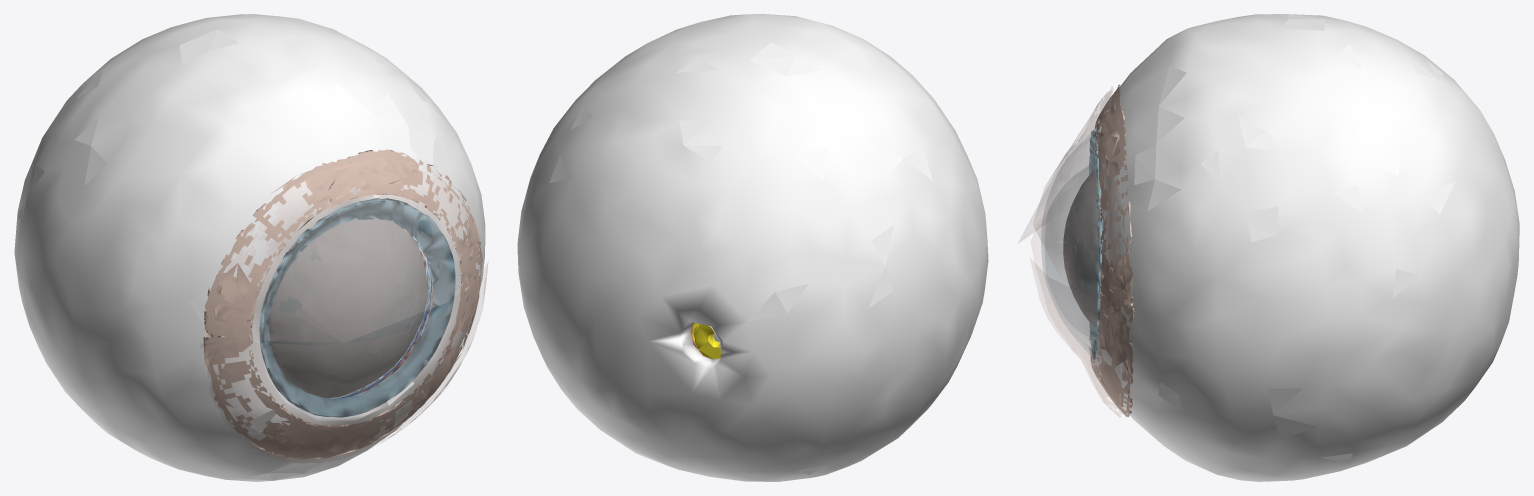
Rendered from 3d-vh-m-eye-l.glb.
3 views of the same model, side by side, from view 1: azimuth 30°, elevation 25°; view 2: azimuth 150°, elevation 25°; view 3: azimuth 270°, elevation 25° (orthographic).
Visible parts, largest first — view 1: VH_M_sclera_L, VH_M_cornea_L, VH_M_palpebral_conjunctiva_of_upper_eyelid_L, VH_M_palpebral_conjunctiva_of_lower_eyelid_L, VH_M_bulbar_conjunctiva_L, VH_M_aqueous_humor_L, VH_M_corneo_scleral_junction_L, VH_M_trabecular_meshwork_L; view 2: VH_M_sclera_L, VH_M_optic_disc_L; view 3: VH_M_sclera_L, VH_M_cornea_L, VH_M_palpebral_conjunctiva_of_upper_eyelid_L, VH_M_bulbar_conjunctiva_L, VH_M_palpebral_conjunctiva_of_lower_eyelid_L, VH_M_aqueous_humor_L, VH_M_corneo_scleral_junction_L.
Part boxes in pixels (x1,y1,x2,y2): VH_M_sclera_L: [14, 14, 485, 481]; VH_M_cornea_L: [260, 200, 455, 417]; VH_M_palpebral_conjunctiva_of_upper_eyelid_L: [208, 156, 483, 342]; VH_M_palpebral_conjunctiva_of_lower_eyelid_L: [200, 263, 487, 462]; VH_M_bulbar_conjunctiva_L: [203, 149, 482, 459]; VH_M_aqueous_humor_L: [269, 218, 427, 398]; VH_M_corneo_scleral_junction_L: [259, 198, 455, 417]; VH_M_trabecular_meshwork_L: [326, 236, 432, 398]; VH_M_sclera_L: [517, 14, 988, 481]; VH_M_optic_disc_L: [694, 324, 720, 359]; VH_M_sclera_L: [1092, 14, 1519, 481]; VH_M_cornea_L: [1041, 131, 1100, 359]; VH_M_palpebral_conjunctiva_of_upper_eyelid_L: [1018, 87, 1122, 309]; VH_M_bulbar_conjunctiva_L: [1089, 84, 1134, 417]; VH_M_palpebral_conjunctiva_of_lower_eyelid_L: [1030, 228, 1122, 417]; VH_M_aqueous_humor_L: [1063, 169, 1098, 328]; VH_M_corneo_scleral_junction_L: [1089, 129, 1102, 360].
Size of the model in its own units: 0.0245 by 0.0244 by 0.0263.
